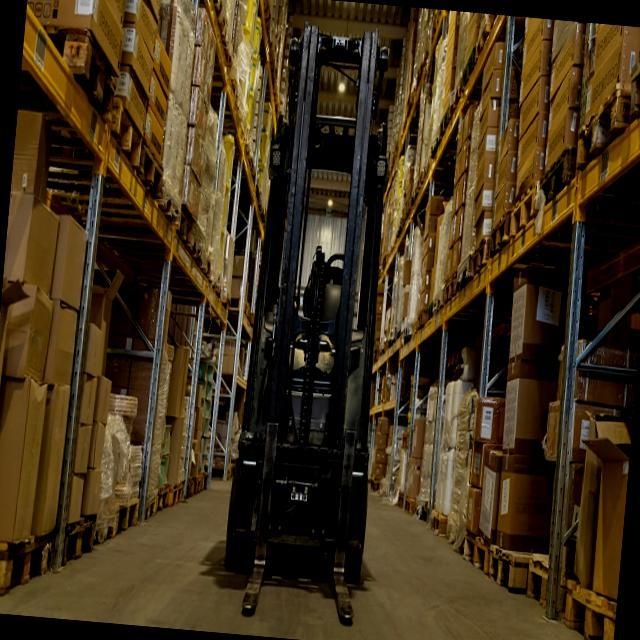forklift: (216, 11, 414, 626)
